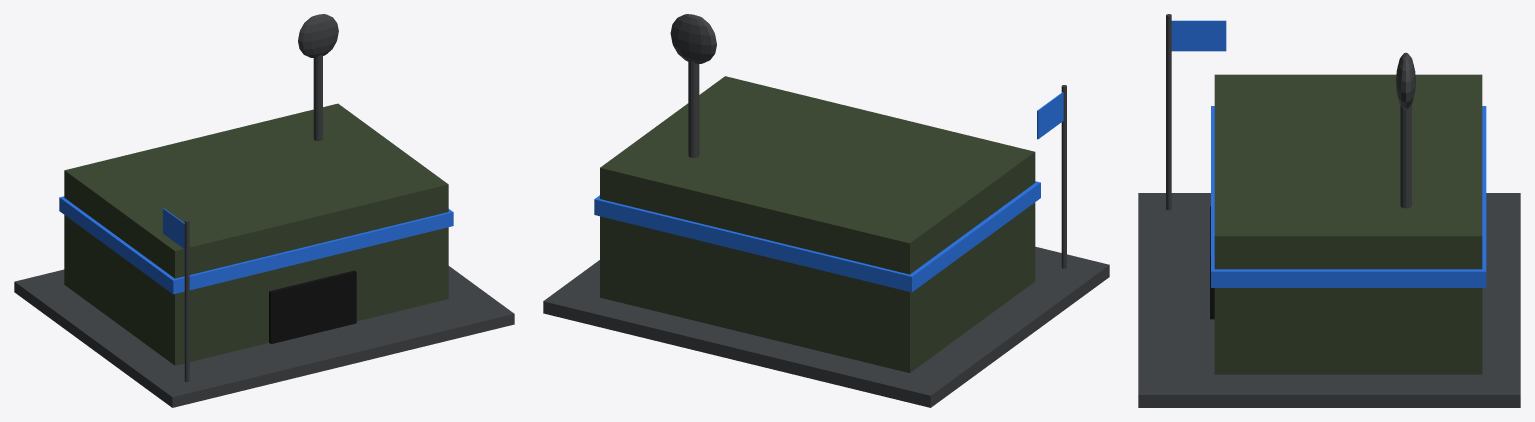
File: ru_barracks.glb
The picture shows the model from 3 angles, left to right: view 1: azimuth 30°, elevation 25°; view 2: azimuth 150°, elevation 25°; view 3: azimuth 270°, elevation 25°; orthographic projection. The views are drawn at different scales.
Parts seen in each view (by area): view 1: main, base, team_band, door, dish, flagpole, mast, flag; view 2: main, base, team_band, dish, mast, flagpole, flag; view 3: main, base, team_band, flag, mast, flagpole, dish.
Boxes of the visible parts, bbox=[...] form: main: bbox=[64, 103, 448, 365]; base: bbox=[14, 266, 514, 407]; team_band: bbox=[59, 196, 453, 294]; door: bbox=[269, 270, 356, 344]; dish: bbox=[298, 14, 338, 57]; flagpole: bbox=[184, 220, 189, 382]; mast: bbox=[313, 55, 322, 140]; flag: bbox=[163, 208, 184, 248]; main: bbox=[600, 76, 1035, 373]; base: bbox=[543, 246, 1109, 407]; team_band: bbox=[594, 181, 1040, 292]; dish: bbox=[670, 14, 716, 63]; mast: bbox=[688, 60, 699, 157]; flagpole: bbox=[1061, 85, 1066, 268]; flag: bbox=[1037, 92, 1063, 139]; main: bbox=[1214, 74, 1482, 374]; base: bbox=[1138, 193, 1520, 407]; team_band: bbox=[1211, 106, 1486, 287]; flag: bbox=[1171, 20, 1226, 51]; mast: bbox=[1400, 105, 1411, 208]; flagpole: bbox=[1166, 14, 1171, 210]; dish: bbox=[1396, 52, 1415, 109].
Bounding box in the file's own units: 10 × 6.98 × 8.
